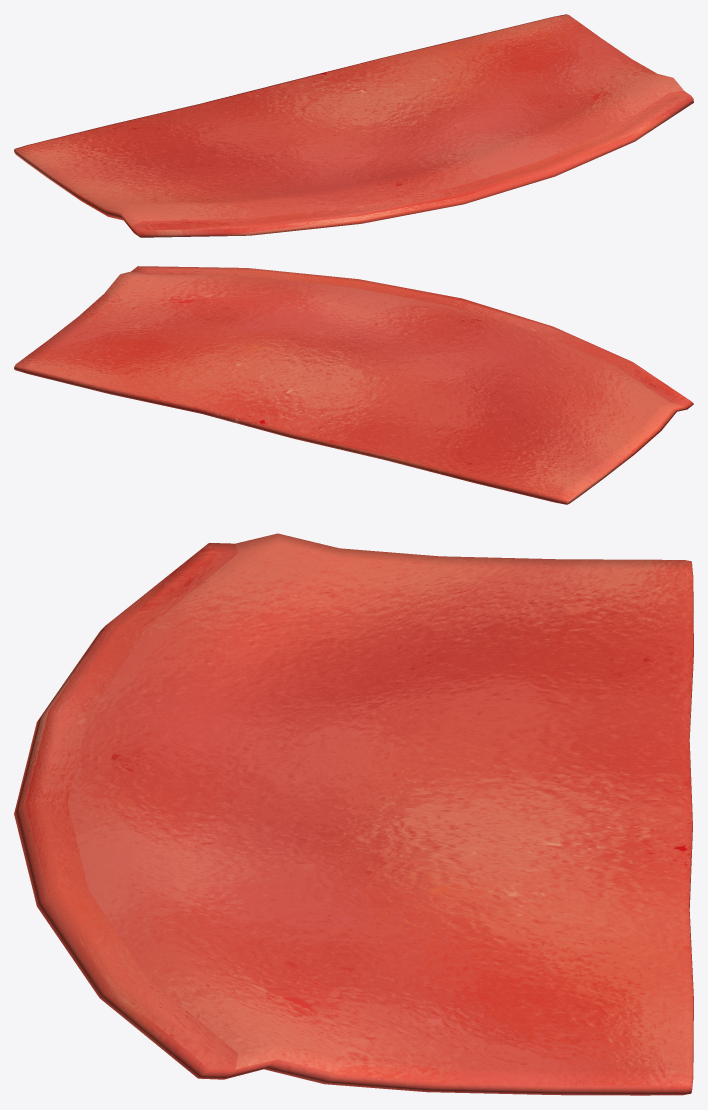
File: chao1.fbx
3 renders of one model, top to bottom at view 1: azimuth 30°, elevation 25°; view 2: azimuth 150°, elevation 25°; view 3: azimuth 270°, elevation 25°, orthographic. The views are drawn at different scales.
Visible parts, largest first — view 1: BGpeloNariz.001; view 2: BGpeloNariz.001; view 3: BGpeloNariz.001.
Part boxes in pixels (<box>): BGpeloNariz.001: <box>14,14,693,237</box>; BGpeloNariz.001: <box>14,266,693,504</box>; BGpeloNariz.001: <box>14,533,693,1095</box>.
Bounding box in the file's own units: 3671 × 139 × 2000.
